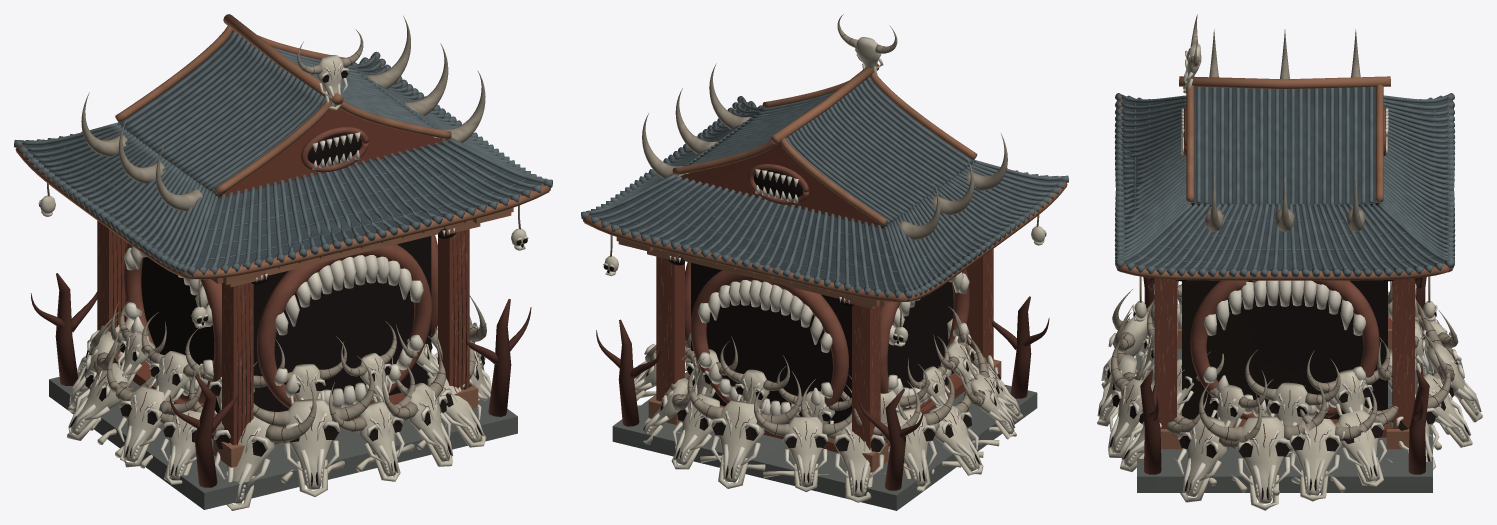
File: malevolent-shrine.glb
3 renders of one model, left to right at view 1: azimuth 30°, elevation 25°; view 2: azimuth 150°, elevation 25°; view 3: azimuth 270°, elevation 25°, orthographic. The views are drawn at different scales.
Parts seen in each view (by area): view 1: Shrine v2 / tile_edge.002 export, Shrine v2 / socket.002 export, Shrine v2 / bone.002 export, Shrine v2 / bone_light.002 export, Shrine v2 / tile.002 export, Shrine v2 / wood.002 export, Shrine v2 / horn.002 export, Shrine v2 / wood_edge.002 export, Shrine v2 / wood_grain.002 export, Shrine v2 / stone.002 export, Shrine v2 / gum.002 export; view 2: Shrine v2 / tile_edge.002 export, Shrine v2 / socket.002 export, Shrine v2 / bone.002 export, Shrine v2 / tile.002 export, Shrine v2 / wood.002 export, Shrine v2 / bone_light.002 export, Shrine v2 / horn.002 export, Shrine v2 / wood_edge.002 export, Shrine v2 / stone.002 export, Shrine v2 / gum.002 export, Shrine v2 / wood_grain.002 export; view 3: Shrine v2 / tile_edge.002 export, Shrine v2 / tile.002 export, Shrine v2 / bone.002 export, Shrine v2 / socket.002 export, Shrine v2 / bone_light.002 export, Shrine v2 / horn.002 export, Shrine v2 / wood_edge.002 export, Shrine v2 / stone.002 export, Shrine v2 / wood.002 export, Shrine v2 / wood_grain.002 export, Shrine v2 / gum.002 export.
Part boxes in pixels (<box>): Shrine v2 / tile_edge.002 export: <box>14,31,552,275</box>; Shrine v2 / socket.002 export: <box>39,70,527,485</box>; Shrine v2 / bone.002 export: <box>40,55,526,510</box>; Shrine v2 / bone_light.002 export: <box>38,63,528,501</box>; Shrine v2 / tile.002 export: <box>22,30,543,268</box>; Shrine v2 / wood.002 export: <box>97,106,469,445</box>; Shrine v2 / horn.002 export: <box>81,16,486,442</box>; Shrine v2 / wood_edge.002 export: <box>15,14,550,467</box>; Shrine v2 / wood_grain.002 export: <box>30,46,531,487</box>; Shrine v2 / stone.002 export: <box>49,356,517,509</box>; Shrine v2 / gum.002 export: <box>123,127,437,408</box>; Shrine v2 / tile_edge.002 export: <box>581,77,1068,298</box>; Shrine v2 / socket.002 export: <box>603,170,1046,491</box>; Shrine v2 / bone.002 export: <box>604,37,1045,502</box>; Shrine v2 / tile.002 export: <box>589,76,1060,292</box>; Shrine v2 / wood.002 export: <box>656,142,993,452</box>; Shrine v2 / bone_light.002 export: <box>603,54,1046,493</box>; Shrine v2 / horn.002 export: <box>642,14,1007,440</box>; Shrine v2 / wood_edge.002 export: <box>582,63,1067,472</box>; Shrine v2 / stone.002 export: <box>612,371,1037,510</box>; Shrine v2 / gum.002 export: <box>685,164,969,424</box>; Shrine v2 / wood_grain.002 export: <box>596,28,1049,490</box>; Shrine v2 / tile_edge.002 export: <box>1114,86,1455,277</box>; Shrine v2 / tile.002 export: <box>1122,87,1447,270</box>; Shrine v2 / bone.002 export: <box>1097,43,1482,510</box>; Shrine v2 / socket.002 export: <box>1099,56,1469,499</box>; Shrine v2 / bone_light.002 export: <box>1097,49,1481,501</box>; Shrine v2 / horn.002 export: <box>1110,14,1457,448</box>; Shrine v2 / wood_edge.002 export: <box>1116,76,1453,449</box>; Shrine v2 / stone.002 export: <box>1137,349,1432,492</box>; Shrine v2 / wood.002 export: <box>1155,278,1414,437</box>; Shrine v2 / wood_grain.002 export: <box>1111,28,1457,474</box>; Shrine v2 / gum.002 export: <box>1177,106,1392,420</box>.
Size of the model in its own units: 9.65 by 9.93 by 8.61.
